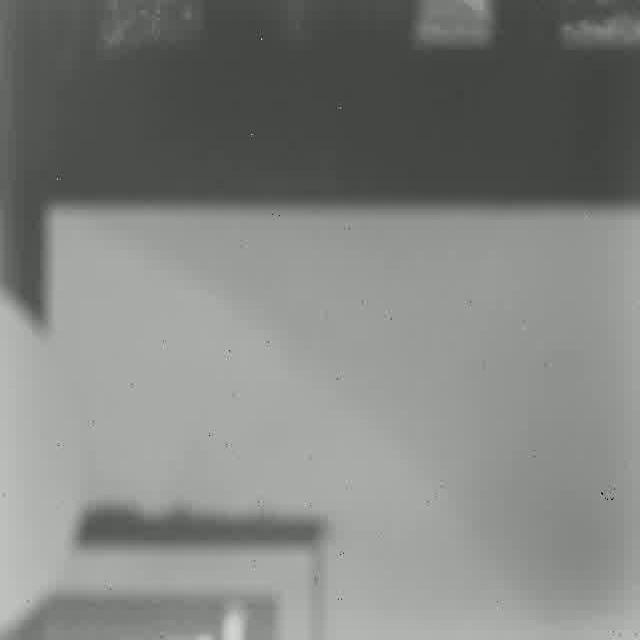Bus: (38, 0, 640, 640)
